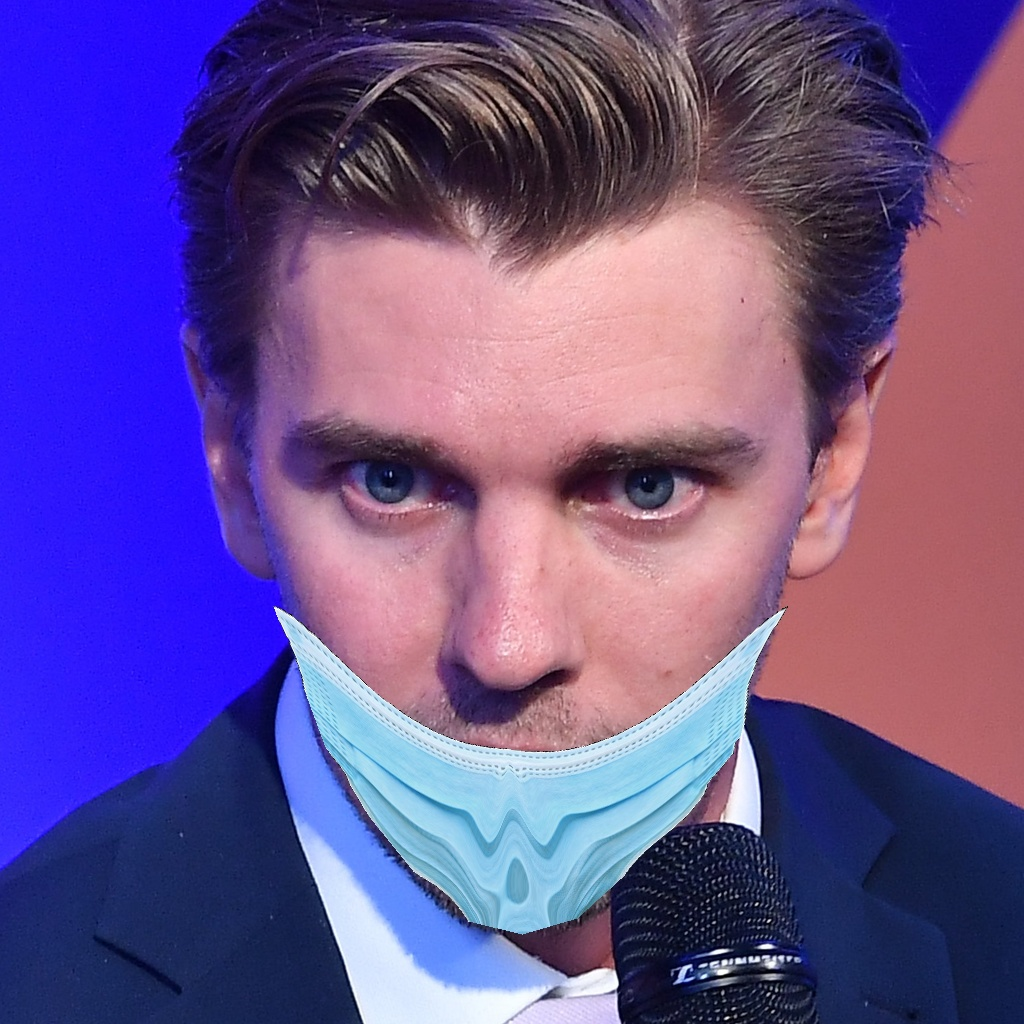Mask_Mouth_Chin: (228, 391, 797, 939)
